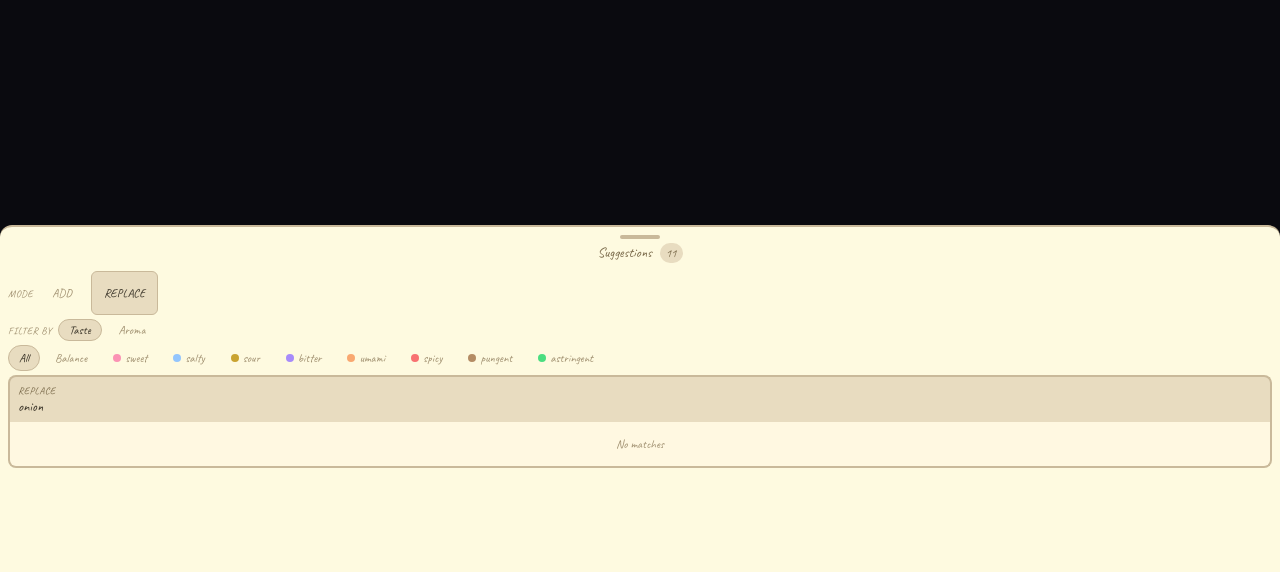
Scenario: SuggestionDrawer ADD-mode rendering (AC-9, AC-11, AC-13, AC-15..AC-19, AC-25) › AC-13 (extension): cocktail empty placeholder reads "options in cocktail scope"
Click the tab "ADD" at (62, 293), box [39,271,85,315]
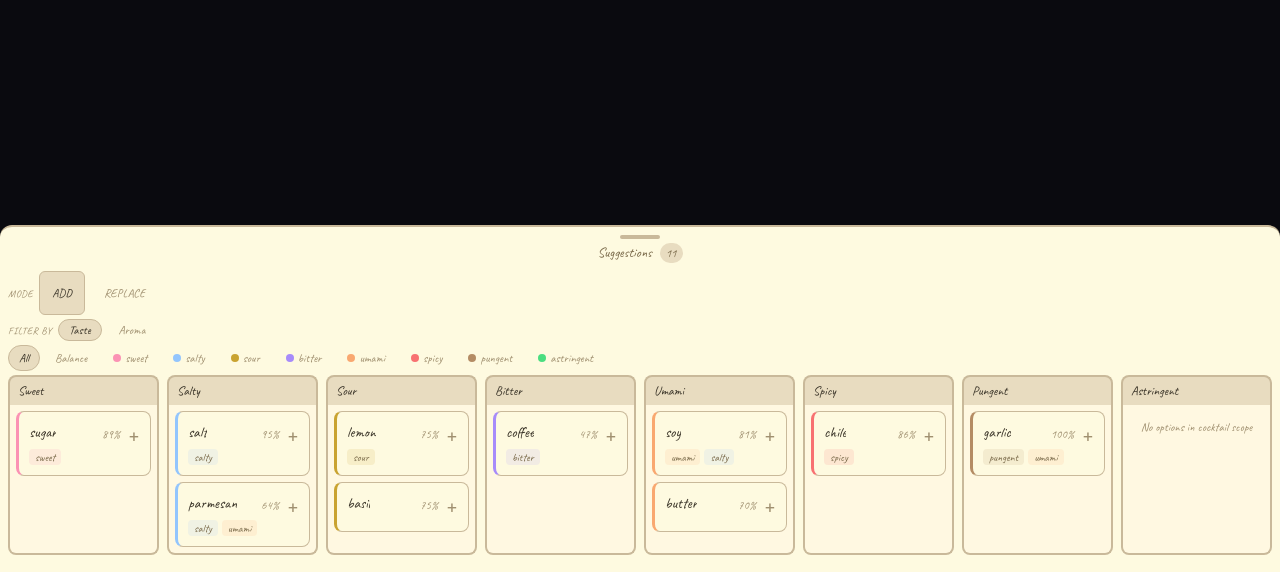
Expected: the text "No options in cocktail scope" is shown, [1141,419,1252,435]
